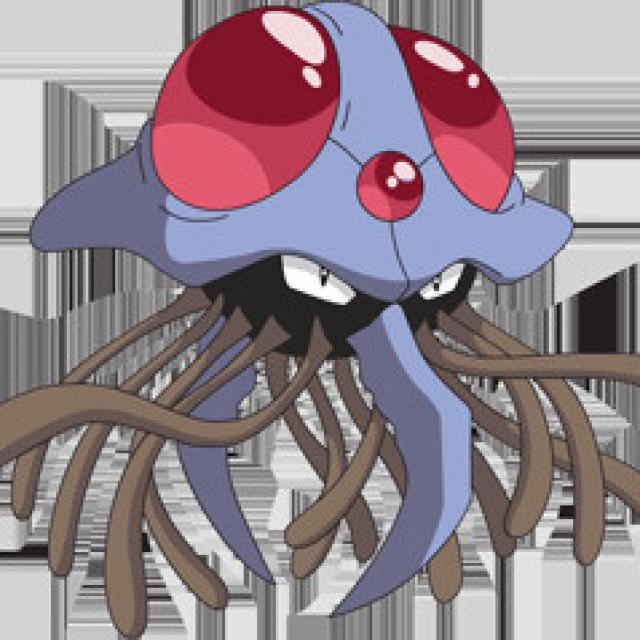Tentacruel: (0, 0, 639, 638)
